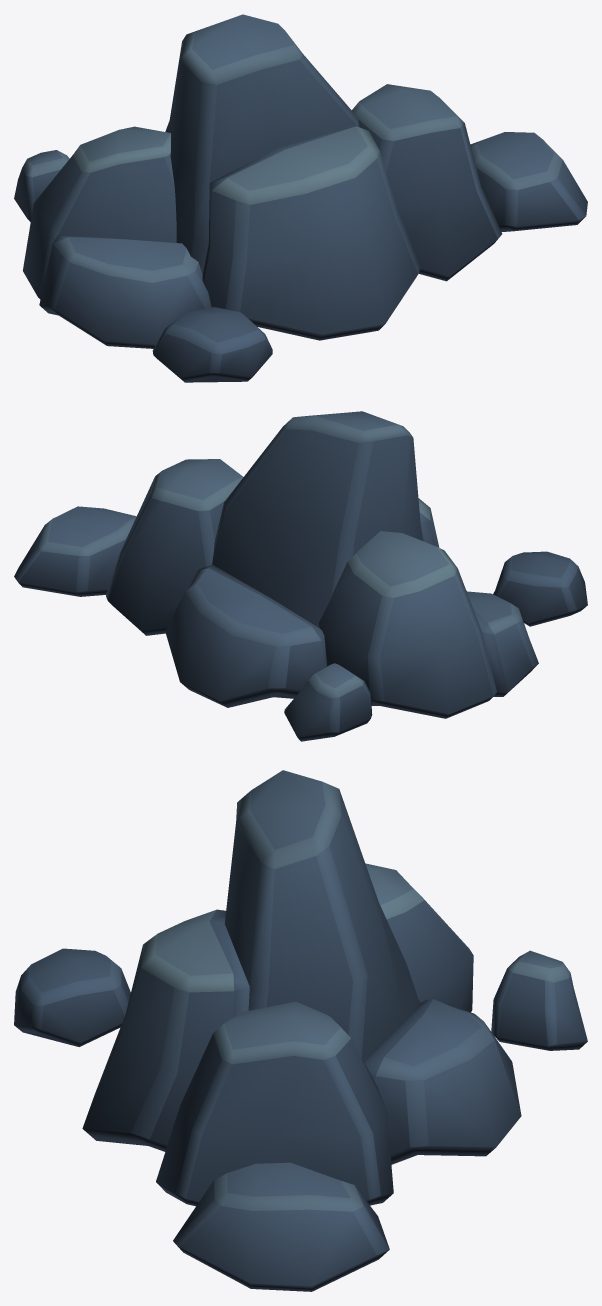
Rendered from rock_arrangement_small.fbx.
3 views of the same model, one above another, from view 1: azimuth 30°, elevation 25°; view 2: azimuth 150°, elevation 25°; view 3: azimuth 270°, elevation 25° (orthographic). The views are drawn at different scales.
Parts seen in each view (by area): view 1: rock_arrangement_small; view 2: rock_arrangement_small; view 3: rock_arrangement_small.
Boxes of the visible parts, left/top/right/bottom form: rock_arrangement_small: left=14, top=14, right=587, bottom=382; rock_arrangement_small: left=14, top=411, right=587, bottom=741; rock_arrangement_small: left=14, top=770, right=587, bottom=1291.
Size of the model in its own units: 335 by 166 by 259.
Materials: 1 (1 with a texture image).
